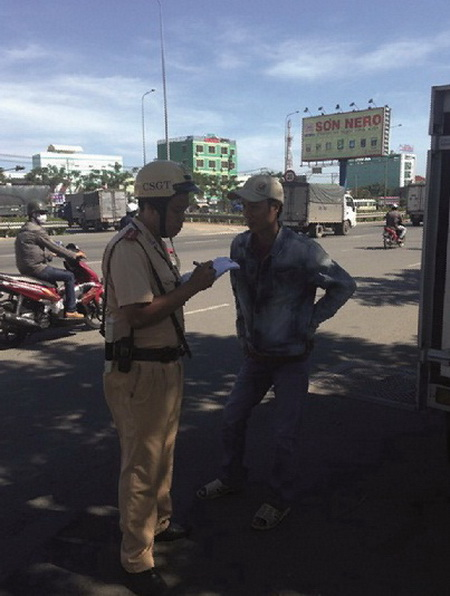police: (78, 157, 249, 591)
